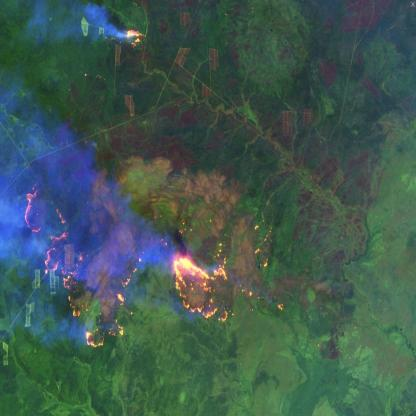fire: (19, 182, 288, 362), (120, 17, 153, 53)
